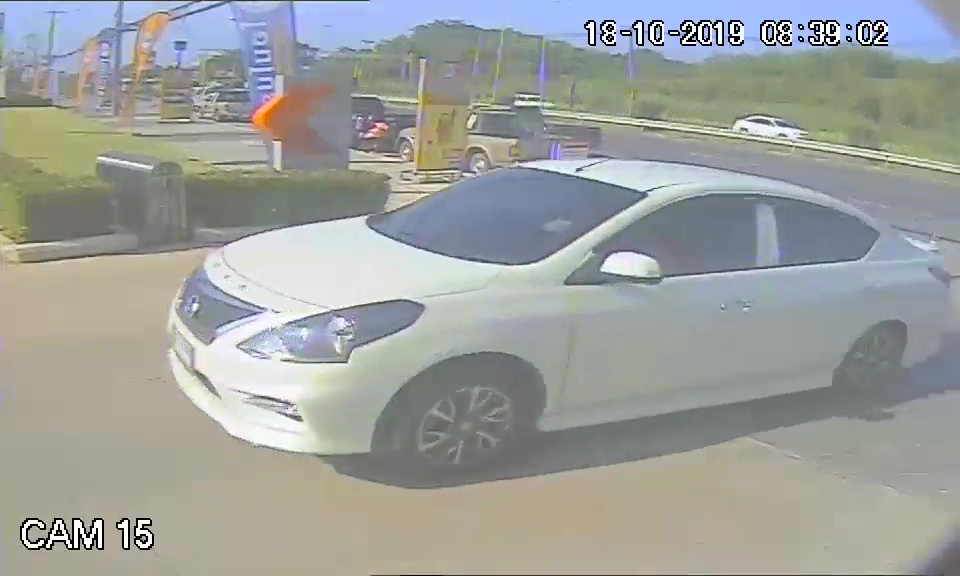sedan: (163, 154, 944, 470)
